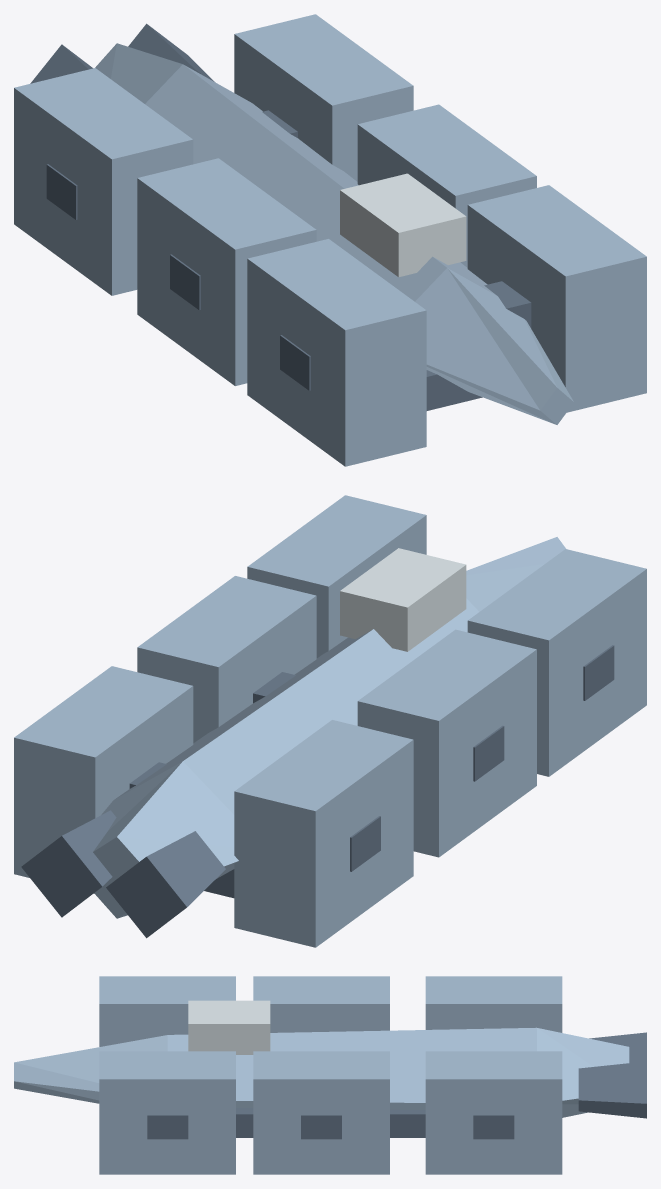
3 renders of one model, top to bottom at view 1: azimuth 30°, elevation 25°; view 2: azimuth 150°, elevation 25°; view 3: azimuth 270°, elevation 25°, orthographic. The views are drawn at different scales.
Bounding box in the file's own units: 3.82 × 1.9 × 9.82.
